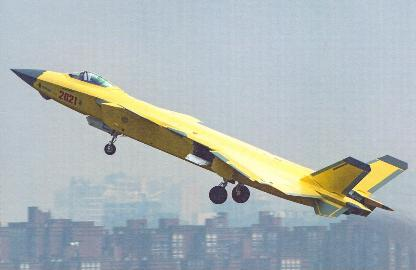F4: (9, 68, 407, 216)
